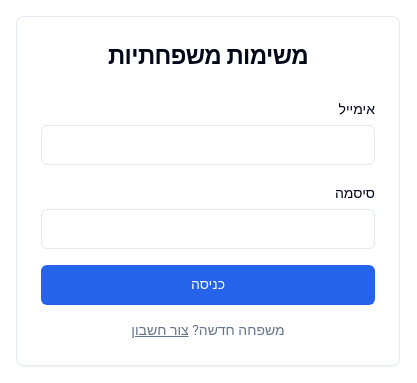
Test: LoginPage › disables button while submitting
Step 1. Type "p@p.com" into the field labelled "אימייל" → [208, 145], box 41,125 -> 375,165
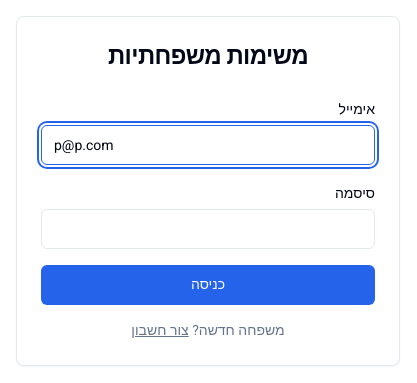
Step 2. Type "pass" into the password field labelled "סיסמה" → [208, 229], box 41,209 -> 375,249
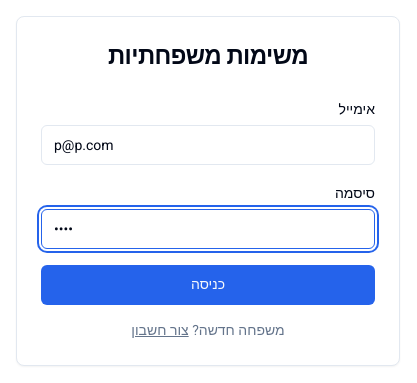
Step 3. Click the button "כניסה" → [208, 285], box 41,265 -> 375,305
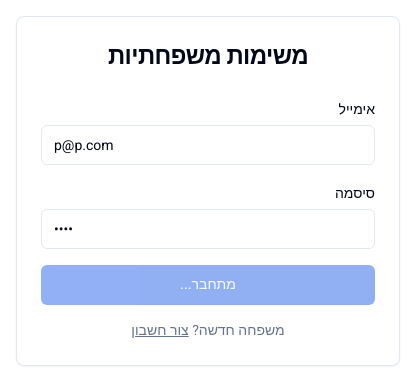
expect the button "מתחבר..." is disabled: met, box 41,265 -> 375,305
